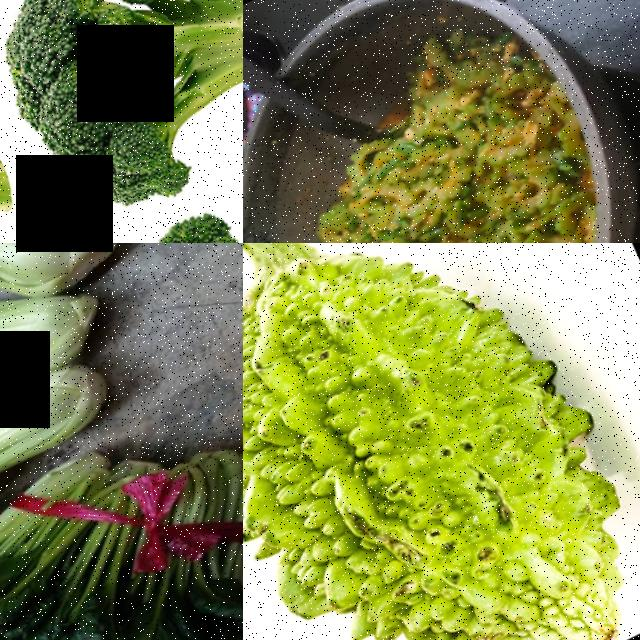bitter gourd: (243, 243, 640, 640)
bok choy: (0, 347, 137, 588), (0, 254, 107, 495)
broccoli: (0, 0, 243, 243), (0, 6, 74, 243), (46, 154, 243, 243)
